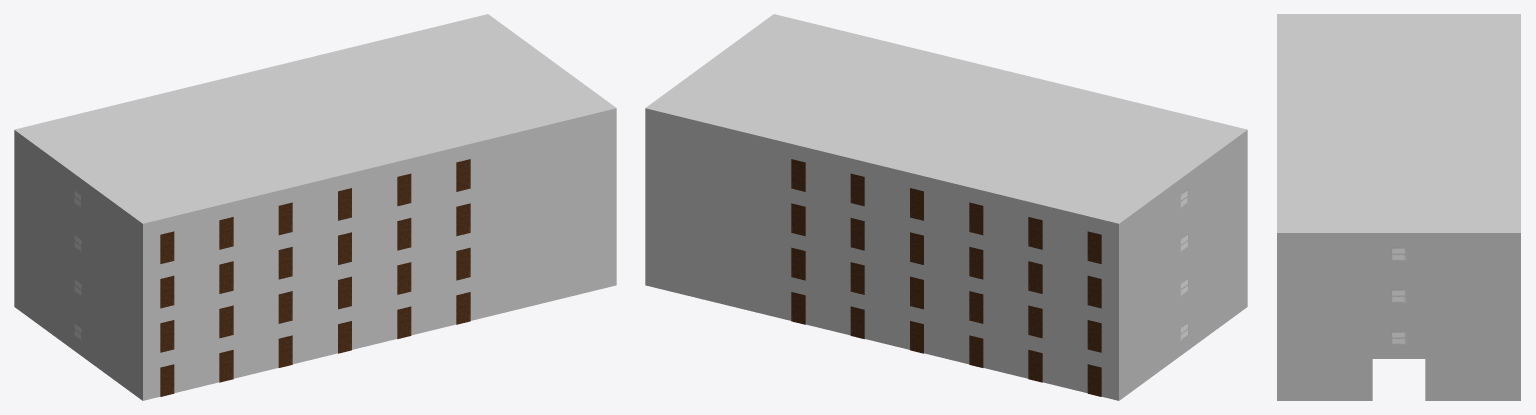
The model's file is hostel_a_final.glb.
3 views of the same model, side by side, from view 1: azimuth 30°, elevation 25°; view 2: azimuth 150°, elevation 25°; view 3: azimuth 270°, elevation 25° (orthographic). The views are drawn at different scales.
Visible parts, largest first — view 1: Plane, Cube.001, Cube.012, Cube.011, Cube.007, Cube, Cube.017, Cube.004, Cube.018, Cube.016, Cube.009, Cube.008 (+5 smaller); view 2: Plane, Cube, Cube.010, Cube.009, Cube.008, Cube.001, Cube.003, Cube.020, Cube.021, Cube.019, Cube.011, Cube.007 (+5 smaller); view 3: Plane, Cube.022, Cube.005, Cube.006, Cube.001, Cube, Cube.003, Cube.004, Plane.027, Plane.105, Plane.106.
Part boxes in pixels (bbox=[...]): Plane: bbox=[25, 14, 616, 223]; Cube.001: bbox=[90, 100, 498, 267]; Cube.012: bbox=[90, 181, 498, 312]; Cube.011: bbox=[90, 226, 498, 356]; Cube.007: bbox=[90, 270, 498, 400]; Cube: bbox=[14, 43, 412, 211]; Cube.017: bbox=[498, 197, 616, 269]; Cube.004: bbox=[498, 108, 616, 181]; Cube.018: bbox=[498, 152, 616, 225]; Cube.016: bbox=[498, 241, 616, 313]; Cube.009: bbox=[14, 218, 66, 300]; Cube.008: bbox=[14, 263, 66, 344]; Plane: bbox=[645, 14, 1235, 223]; Cube: bbox=[763, 137, 1171, 267]; Cube.010: bbox=[763, 181, 1171, 312]; Cube.009: bbox=[763, 226, 1171, 356]; Cube.008: bbox=[763, 270, 1171, 400]; Cube.001: bbox=[846, 43, 1247, 211]; Cube.003: bbox=[645, 108, 763, 181]; Cube.020: bbox=[645, 197, 763, 269]; Cube.021: bbox=[645, 152, 763, 225]; Cube.019: bbox=[645, 241, 763, 313]; Cube.011: bbox=[1195, 218, 1247, 300]; Cube.007: bbox=[1195, 263, 1247, 344]; Plane: bbox=[1277, 14, 1520, 232]; Cube.022: bbox=[1278, 232, 1519, 358]; Cube.005: bbox=[1425, 359, 1517, 400]; Cube.006: bbox=[1280, 359, 1372, 400]; Cube.001: bbox=[1277, 14, 1375, 172]; Cube: bbox=[1422, 14, 1520, 173]; Cube.003: bbox=[1518, 189, 1520, 274]; Cube.004: bbox=[1277, 187, 1279, 274]; Plane.027: bbox=[1391, 247, 1406, 261]; Plane.105: bbox=[1391, 331, 1406, 345]; Plane.106: bbox=[1391, 289, 1406, 303].
Size of the model in its own units: 33.7 by 12.5 by 15.9.
103 materials, 103 textured.
